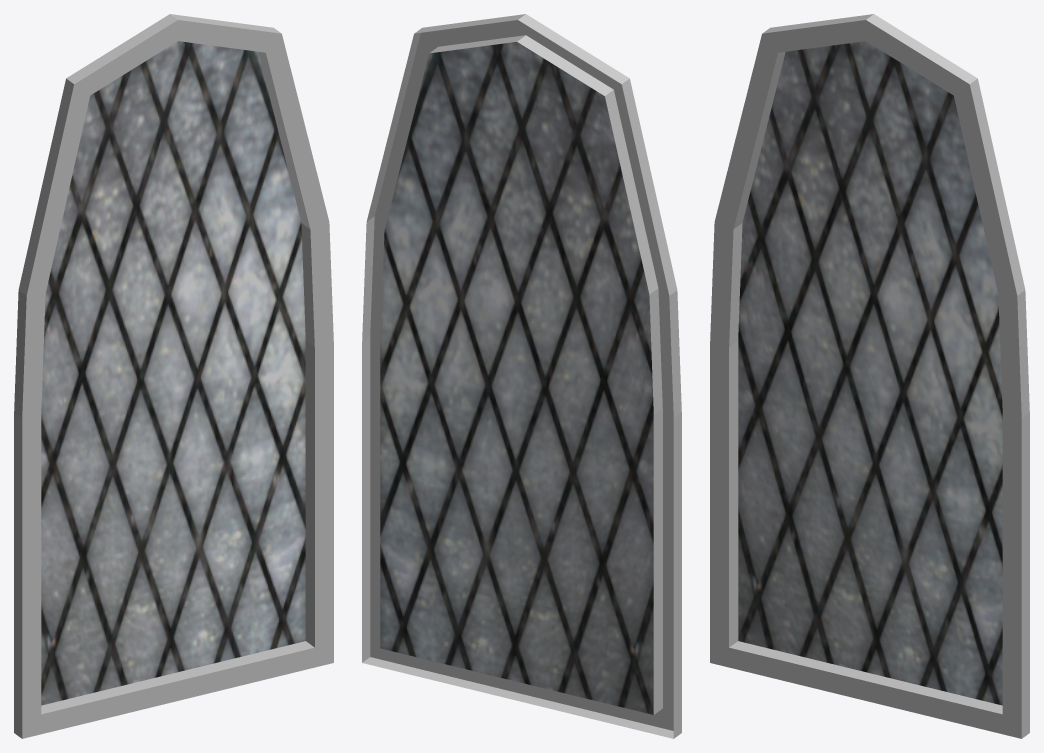
Rendered from Window.fbx.
3 renders of one model, left to right at view 1: azimuth 30°, elevation 25°; view 2: azimuth 150°, elevation 25°; view 3: azimuth 330°, elevation 25°, orthographic.
Visible parts, largest first — view 1: Object001; view 2: Object001; view 3: Object001.
Boxes of the visible parts, x1,y1,x2,y2 form: Object001: (14, 14, 333, 738); Object001: (362, 14, 681, 738); Object001: (710, 14, 1029, 738).
Bounding box in the file's own units: 59.09 × 2.97 × 123.
